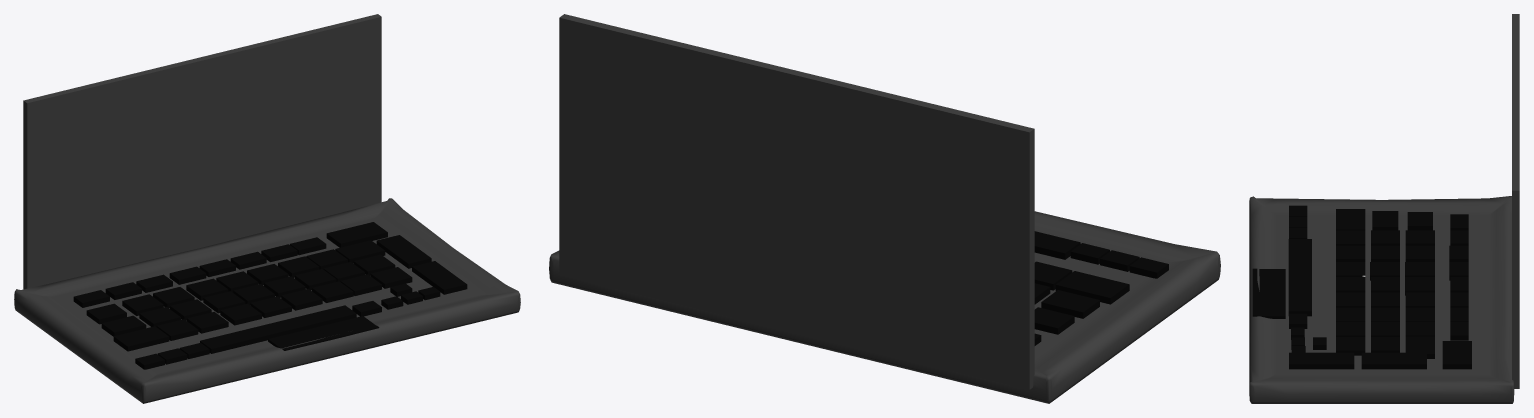
File: Laptop Final.fbx
3 renders of one model, left to right at view 1: azimuth 30°, elevation 25°; view 2: azimuth 150°, elevation 25°; view 3: azimuth 270°, elevation 25°, orthographic. The views are drawn at different scales.
Visible parts, largest first — view 1: Laptop; view 2: Laptop; view 3: Laptop.
Part boxes in pixels (x1,y1,x2,y2): Laptop: (14,14,520,403); Laptop: (549,14,1220,403); Laptop: (1249,14,1519,403).
Size of the model in its own units: 1.73 by 0.8948 by 1.05.
Materials: 2 (2 with a texture image).
